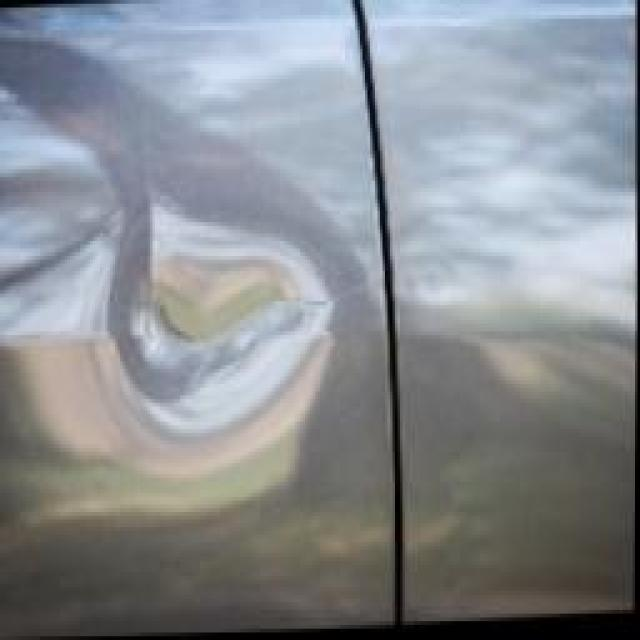Door: (40, 68, 451, 572)
